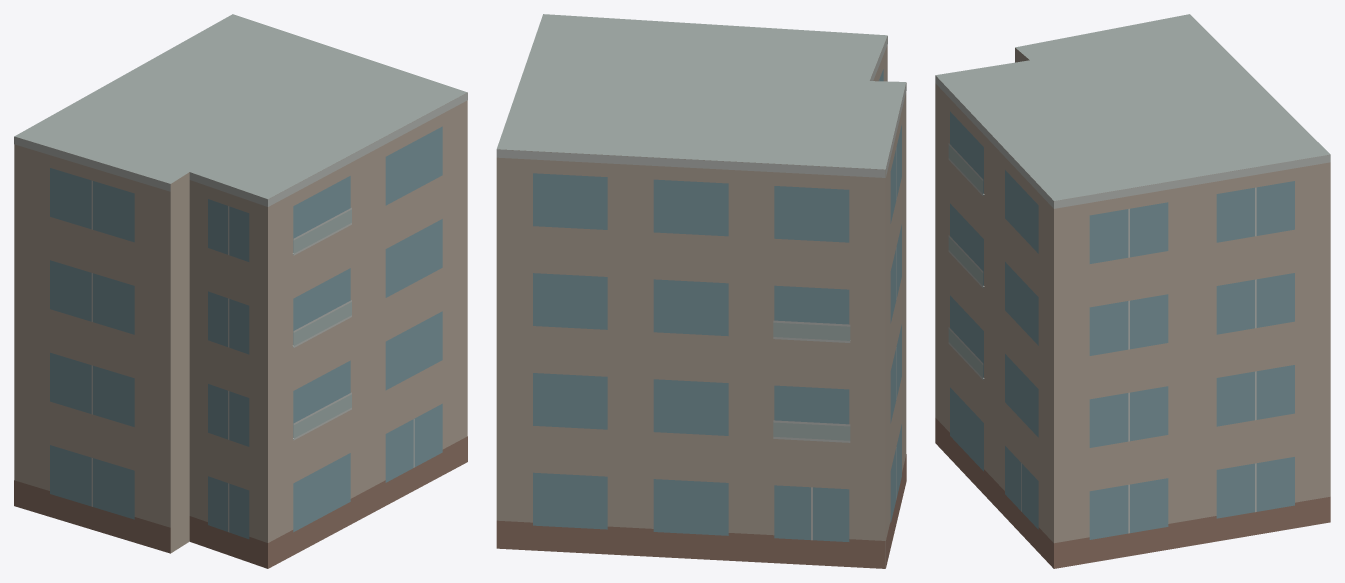
The model's file is survey-upis-32931410.glb.
3 views of the same model, side by side, from view 1: azimuth 30°, elevation 25°; view 2: azimuth 150°, elevation 25°; view 3: azimuth 270°, elevation 25° (orthographic). The views are drawn at different scales.
Visible parts, largest first — view 1: survey-upis-32931410.tmp; view 2: survey-upis-32931410.tmp; view 3: survey-upis-32931410.tmp.
Part boxes in pixels (x1,y1,x2,y2): survey-upis-32931410.tmp: (14, 14, 467, 568); survey-upis-32931410.tmp: (496, 14, 906, 568); survey-upis-32931410.tmp: (935, 14, 1330, 568).
Bounding box in the file's own units: 12.56 × 11.5 × 11.21.
